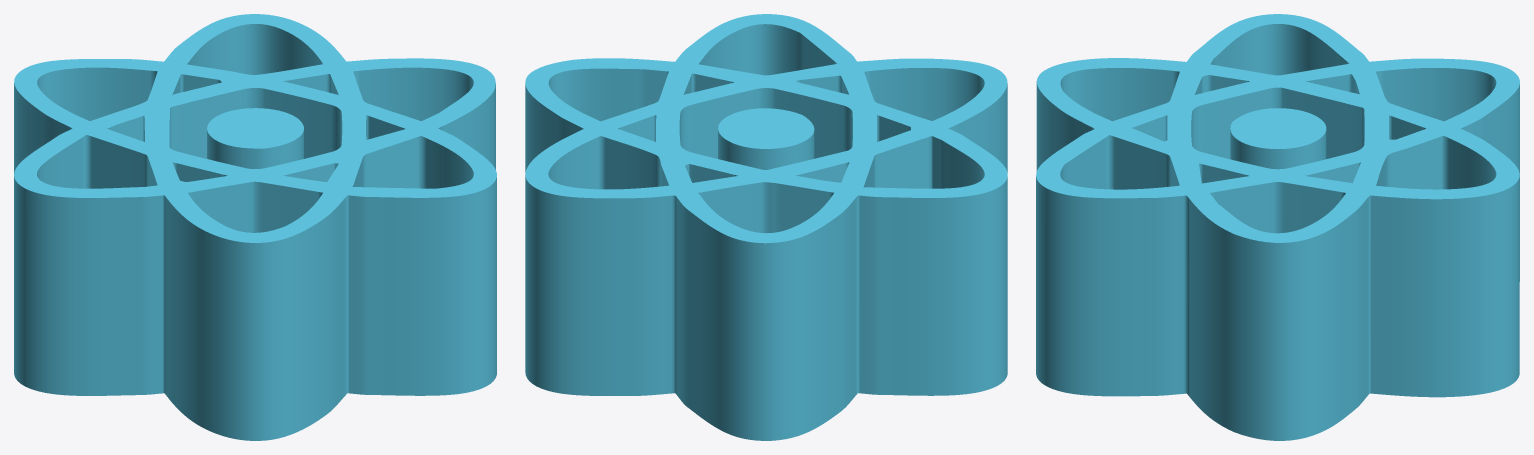
The model's file is react.glb.
3 renders of one model, left to right at view 1: azimuth 30°, elevation 25°; view 2: azimuth 150°, elevation 25°; view 3: azimuth 270°, elevation 25°, orthographic.
Parts seen in each view (by area): view 1: Curve.002, Curve.061; view 2: Curve.002, Curve.061; view 3: Curve.002, Curve.061.
Boxes of the visible parts, x1,y1,x2,y2 form: Curve.002: (14, 14, 496, 440); Curve.061: (207, 108, 303, 168); Curve.002: (525, 14, 1007, 440); Curve.061: (718, 108, 814, 169); Curve.002: (1036, 14, 1519, 440); Curve.061: (1230, 108, 1326, 169).
Size of the model in its own units: 0.0496 by 0.02 by 0.0443.
